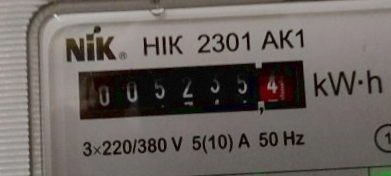0: (94, 81, 112, 108), (123, 77, 139, 103)
2: (178, 73, 193, 98)
3: (206, 69, 221, 95)
4: (263, 69, 279, 96)
5: (150, 74, 167, 101), (233, 68, 249, 96)
screen: (66, 46, 318, 132)
